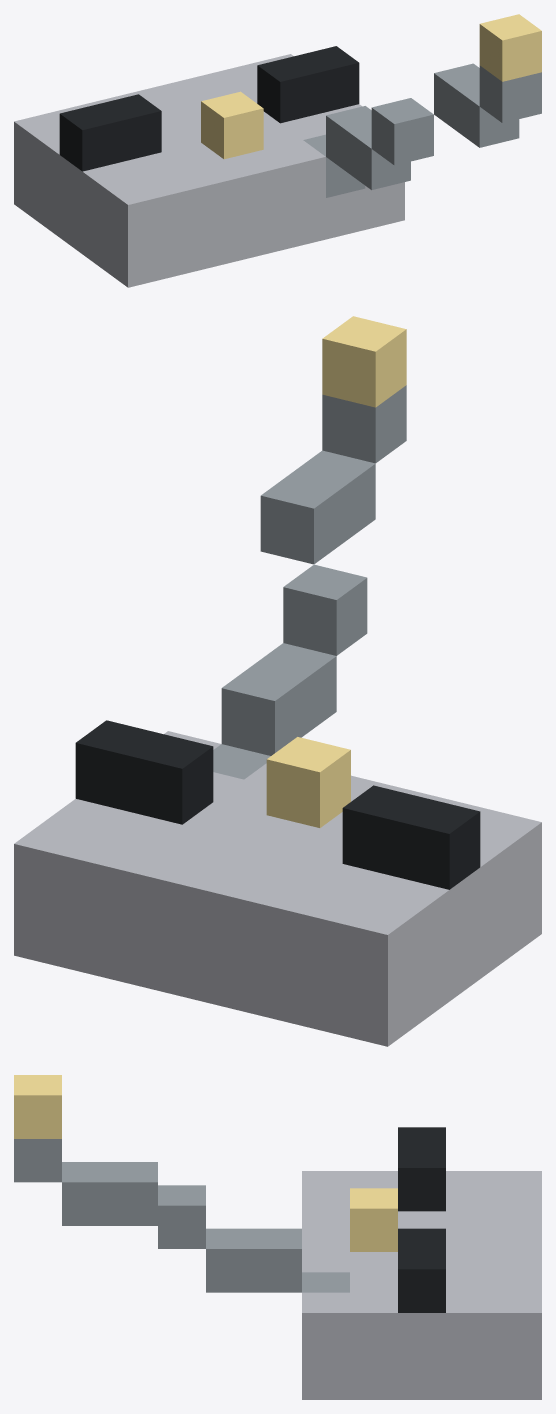
File: vox_remote_star.glb
The picture shows the model from 3 angles, top to bottom: view 1: azimuth 30°, elevation 25°; view 2: azimuth 150°, elevation 25°; view 3: azimuth 270°, elevation 25°; orthographic projection. The views are drawn at different scales.
Visible parts, largest first — view 1: vox_remote_star; view 2: vox_remote_star; view 3: vox_remote_star.
Boxes of the visible parts, <box> form: vox_remote_star: <box>14,14,541,287</box>; vox_remote_star: <box>14,316,541,1046</box>; vox_remote_star: <box>14,1075,541,1399</box>.
Size of the model in its own units: 0.14 by 0.14 by 0.22.
